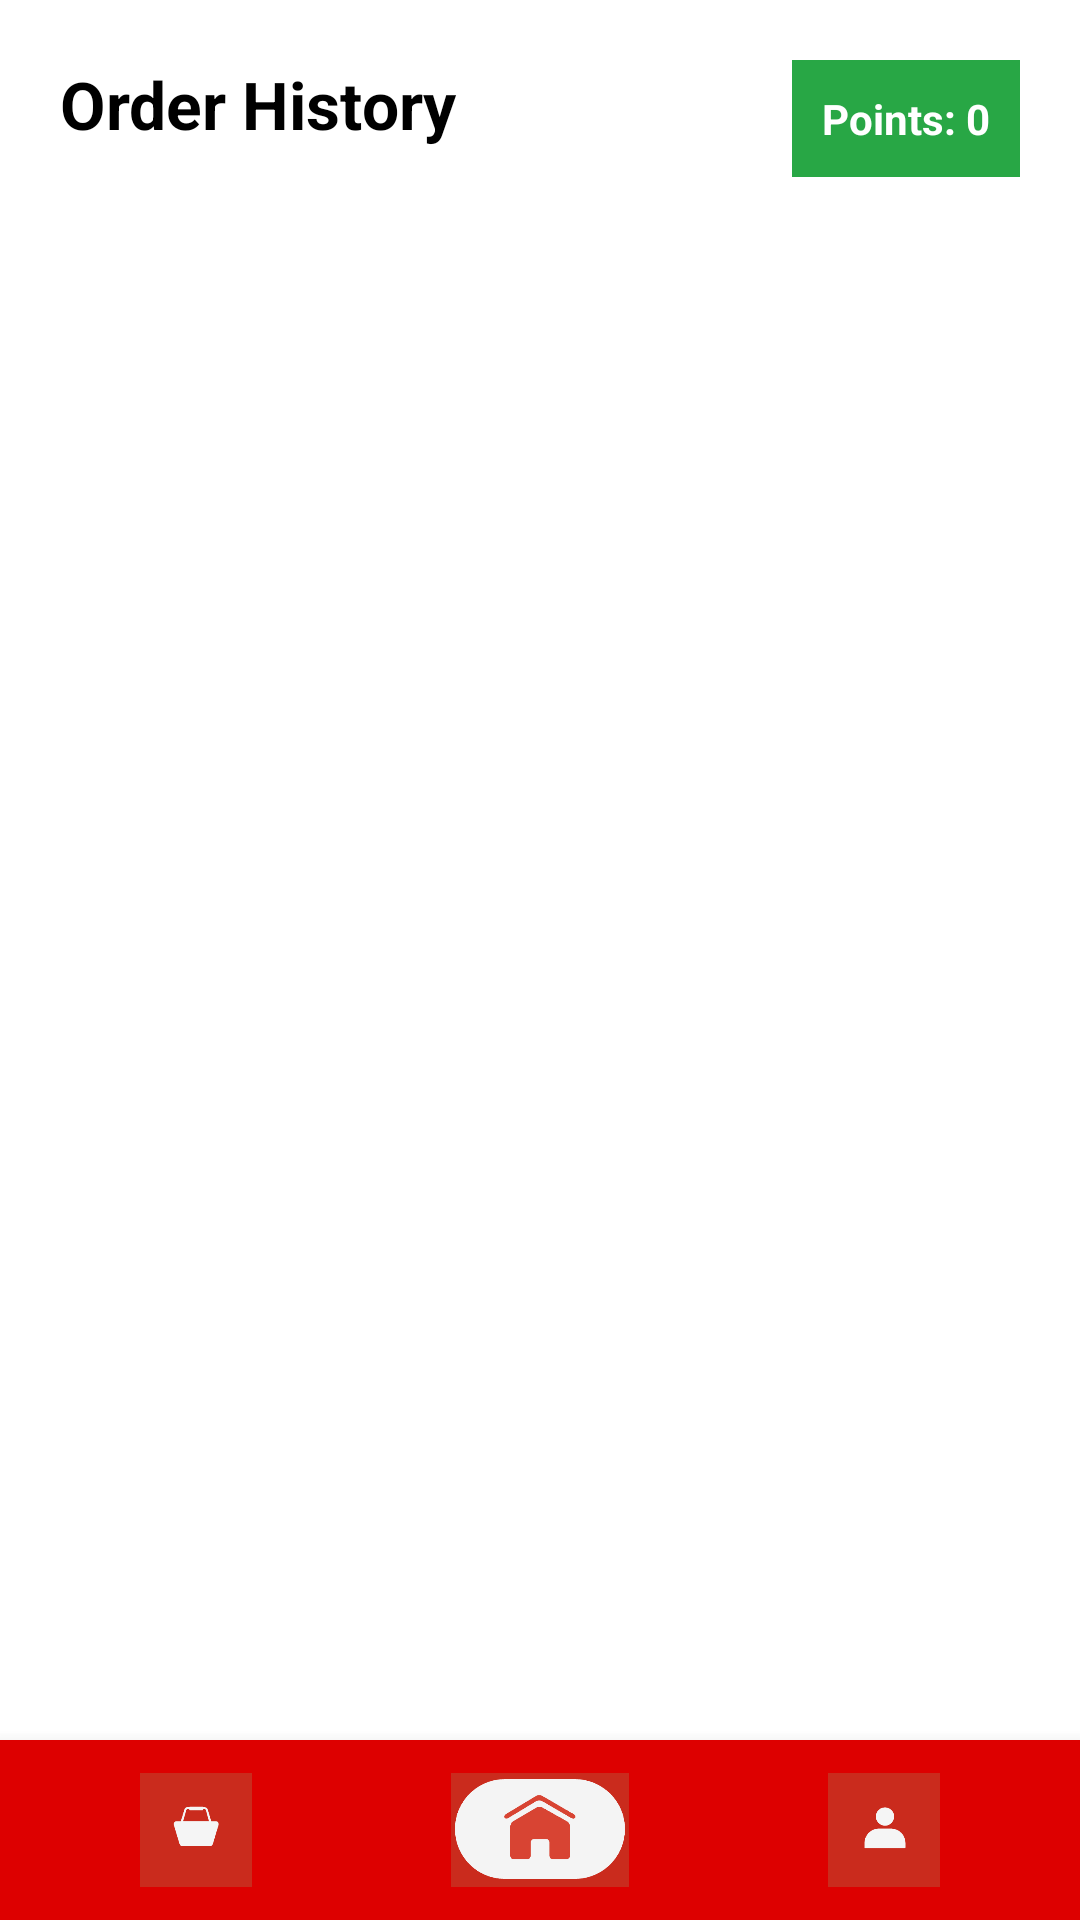

Icon click points for this 1080w x 1920h phone screenshot, format (x,y):
Home: (540,1830)
